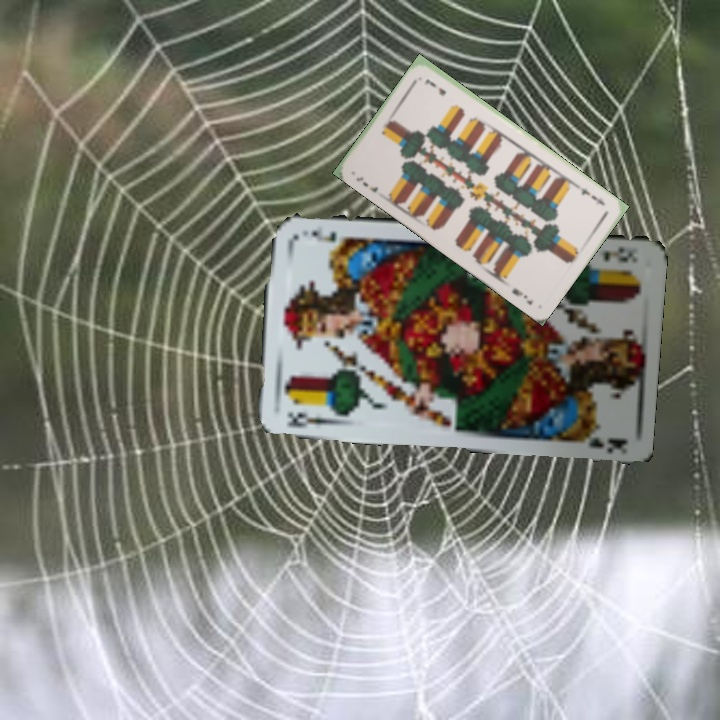E7: (575, 182, 608, 208), (352, 172, 380, 195)
EK: (283, 408, 338, 430), (598, 242, 640, 267)
